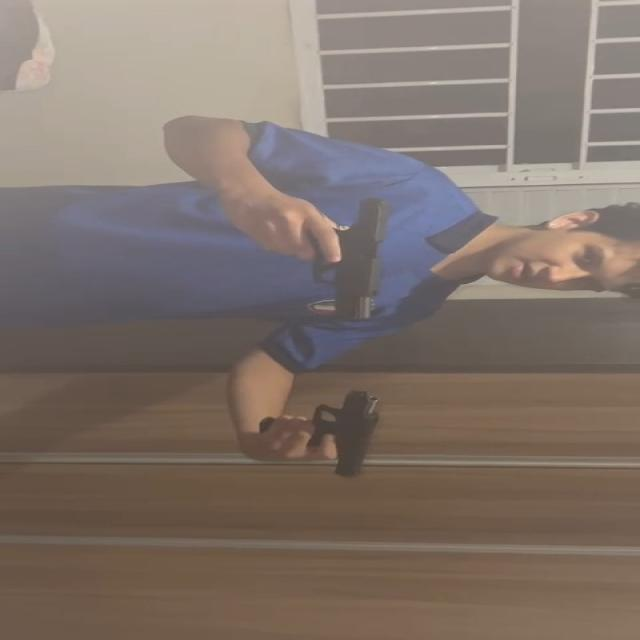guns: (295, 199, 393, 319), (258, 387, 385, 477)
